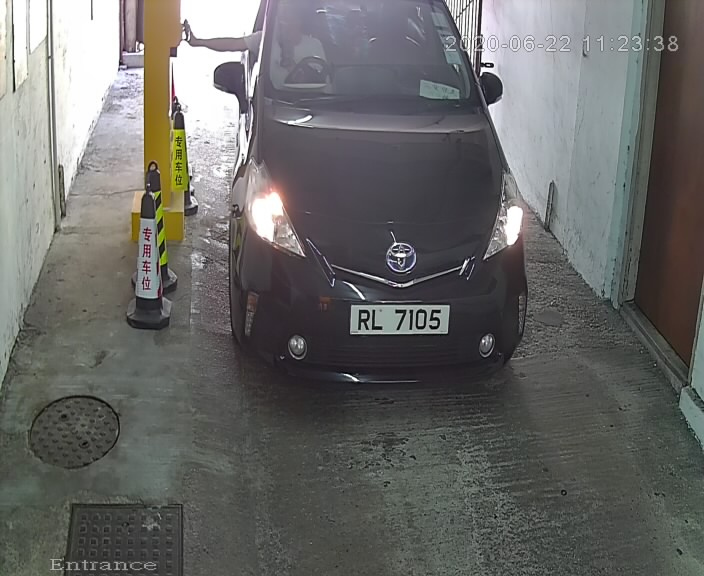privatecar: (185, 1, 564, 399)
